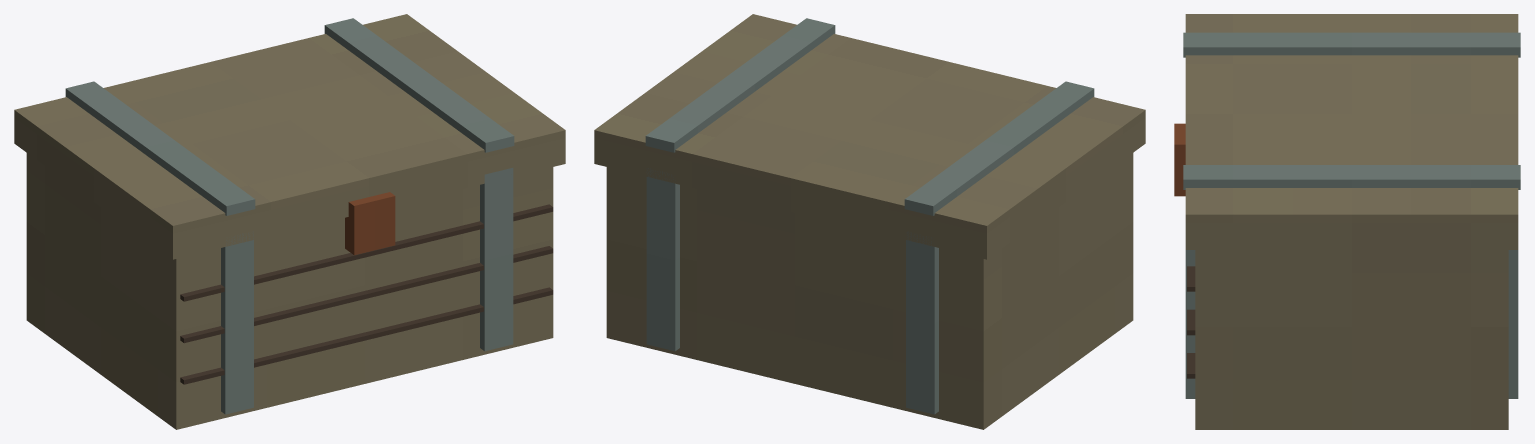
The model's file is crate.glb.
The picture shows the model from 3 angles, left to right: view 1: azimuth 30°, elevation 25°; view 2: azimuth 150°, elevation 25°; view 3: azimuth 270°, elevation 25°; orthographic projection. The views are drawn at different scales.
Visible parts, largest first — view 1: Housing; view 2: Housing; view 3: Housing.
Boxes of the visible parts, box(x1,y1,x2,y2) form: Housing: box(14, 14, 565, 429); Housing: box(594, 14, 1145, 429); Housing: box(1174, 14, 1520, 429).
Size of the model in its own units: 1 by 0.528 by 0.729.
4 materials, 4 textured.
